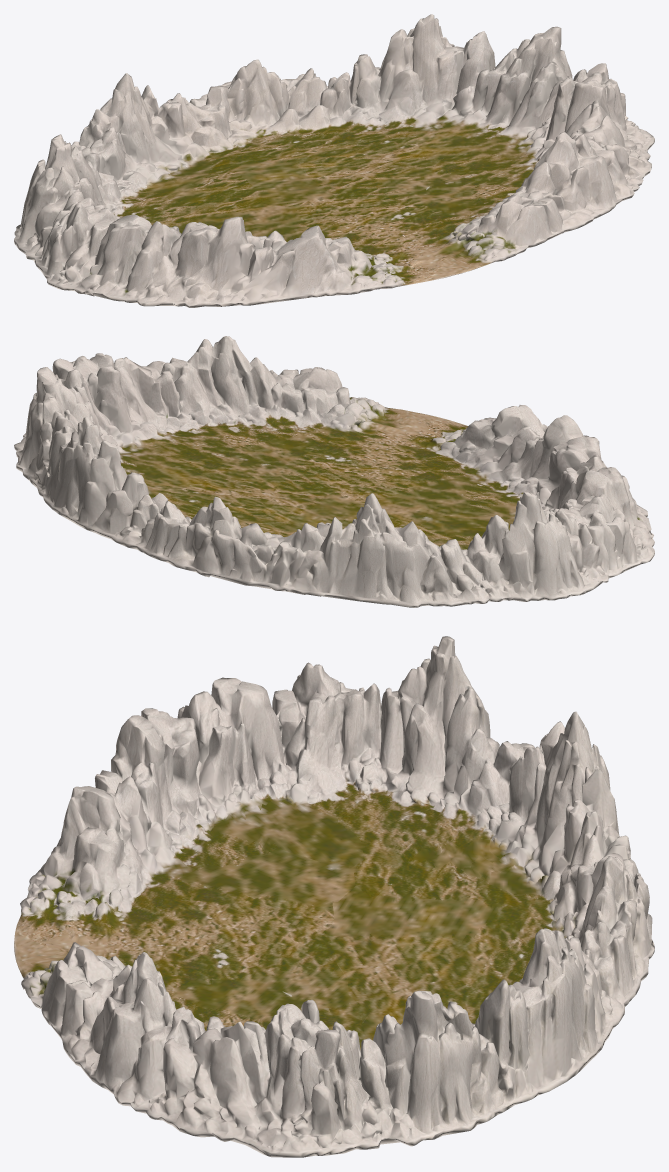
File: Meshy_AI_Grassy_Meadow_Terrain_20261030_texture.fbx
The picture shows the model from 3 angles, top to bottom: view 1: azimuth 30°, elevation 25°; view 2: azimuth 150°, elevation 25°; view 3: azimuth 270°, elevation 25°; orthographic projection. The views are drawn at different scales.
Parts seen in each view (by area): view 1: Mesh_0; view 2: Mesh_0; view 3: Mesh_0.
Part boxes in pixels (x1,y1,x2,y2): Mesh_0: (14,14,654,307); Mesh_0: (14,336,654,607); Mesh_0: (14,636,654,1157).
Size of the model in its own units: 200 by 30.59 by 125.
Materials: 1 (1 with a texture image).
